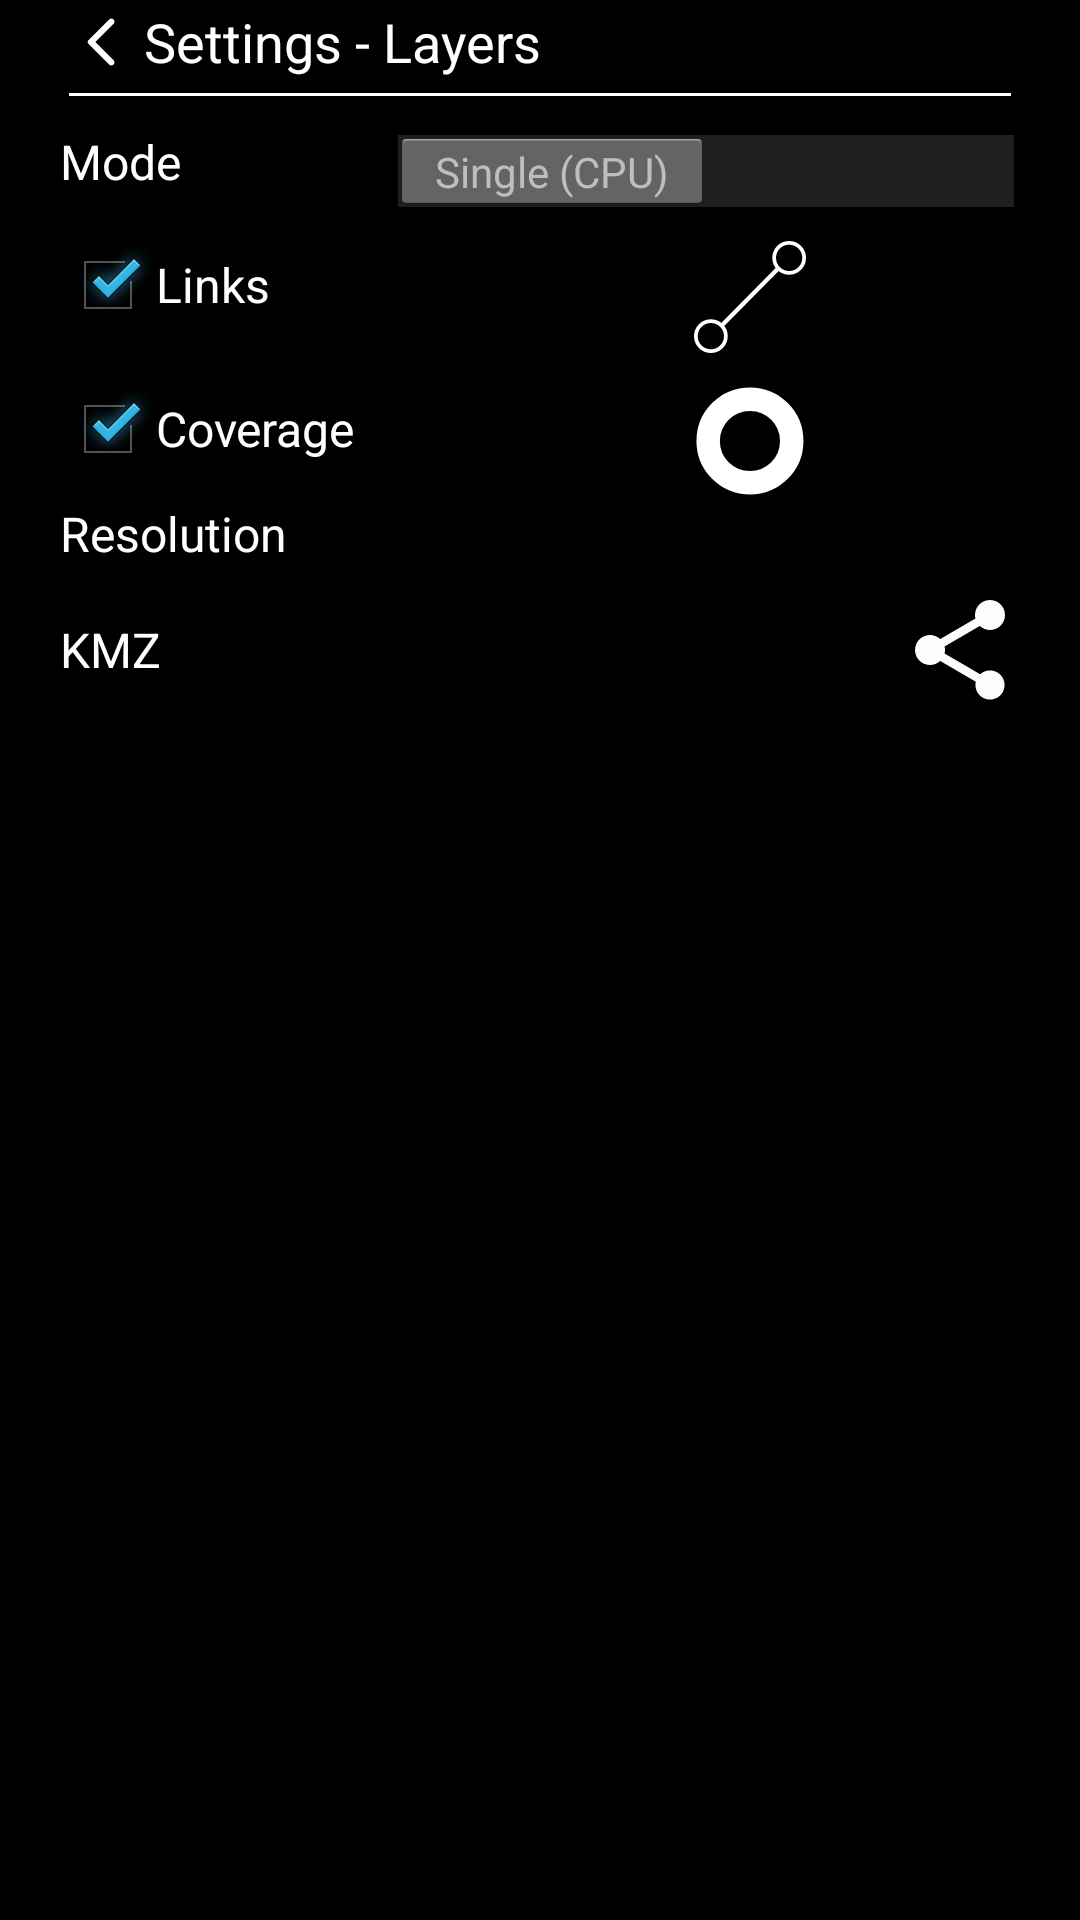

Named icons in this screenshot (1080*1920) and their bounding boxes, [left=x1, top=y1, right=x2, bottom=y2]:
back arrow: [left=87, top=18, right=115, bottom=66]
link: [left=694, top=241, right=806, bottom=353]
Send data package: [left=915, top=600, right=1005, bottom=700]
